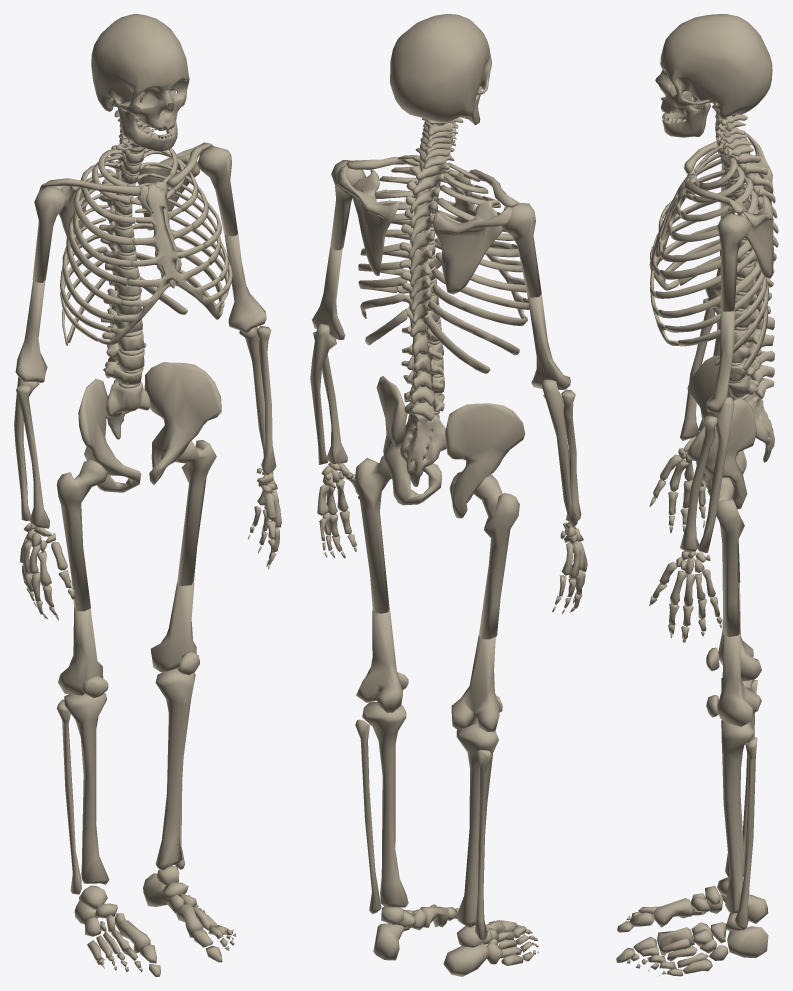
The model's file is pediatric_adolescent_male.skeletal.LOD2.glb.
The picture shows the model from 3 angles, left to right: view 1: azimuth 30°, elevation 25°; view 2: azimuth 150°, elevation 25°; view 3: azimuth 270°, elevation 25°; orthographic projection. The views are drawn at different scales.
Visible parts, largest first — view 1: PEDIATRIC.ADOLESCENT.MALE.SKELETAL.RIBS_CORTICAL, PEDIATRIC.ADOLESCENT.MALE.SKELETAL.CRANIUM_CORTICAL, PEDIATRIC.ADOLESCENT.MALE.SKELETAL.PELVIS_CORTICAL, PEDIATRIC.ADOLESCENT.MALE.SKELETAL.TIBIAE_CORTICAL, PEDIATRIC.ADOLESCENT.MALE.SKELETAL.ANKLES_AND_FOOT_CORTICAL, PEDIATRIC.ADOLESCENT.MALE.SKELETAL.FEMORA_UPPER_CORTICAL, PEDIATRIC.ADOLESCENT.MALE.SKELETAL.CARTILAGE_TRUNK, PEDIATRIC.ADOLESCENT.MALE.SKELETAL.FEMORA_LOWER_CORTICAL, PEDIATRIC.ADOLESCENT.MALE.SKELETAL.WRISTS_AND_HAND_BONES_COR, PEDIATRIC.ADOLESCENT.MALE.SKELETAL.HUMERI_LOWER_CORTICAL, PEDIATRIC.ADOLESCENT.MALE.SKELETAL.HUMERI_UPPER_CORTICAL, PEDIATRIC.ADOLESCENT.MALE.SKELETAL.RADII_CORTICAL (+10 smaller); view 2: PEDIATRIC.ADOLESCENT.MALE.SKELETAL.RIBS_CORTICAL, PEDIATRIC.ADOLESCENT.MALE.SKELETAL.CRANIUM_CORTICAL, PEDIATRIC.ADOLESCENT.MALE.SKELETAL.PELVIS_CORTICAL, PEDIATRIC.ADOLESCENT.MALE.SKELETAL.TIBIAE_CORTICAL, PEDIATRIC.ADOLESCENT.MALE.SKELETAL.FEMORA_UPPER_CORTICAL, PEDIATRIC.ADOLESCENT.MALE.SKELETAL.SCAPULAE_CORTICAL, PEDIATRIC.ADOLESCENT.MALE.SKELETAL.FEMORA_LOWER_CORTICAL, PEDIATRIC.ADOLESCENT.MALE.SKELETAL.ANKLES_AND_FOOT_CORTICAL, PEDIATRIC.ADOLESCENT.MALE.SKELETAL.THORACIC_SPINE_CORTICAL, PEDIATRIC.ADOLESCENT.MALE.SKELETAL.WRISTS_AND_HAND_BONES_COR, PEDIATRIC.ADOLESCENT.MALE.SKELETAL.ULNAE_CORTICAL, PEDIATRIC.ADOLESCENT.MALE.SKELETAL.HUMERI_UPPER_CORTICAL (+8 smaller); view 3: PEDIATRIC.ADOLESCENT.MALE.SKELETAL.CRANIUM_CORTICAL, PEDIATRIC.ADOLESCENT.MALE.SKELETAL.RIBS_CORTICAL, PEDIATRIC.ADOLESCENT.MALE.SKELETAL.ANKLES_AND_FOOT_CORTICAL, PEDIATRIC.ADOLESCENT.MALE.SKELETAL.WRISTS_AND_HAND_BONES_COR, PEDIATRIC.ADOLESCENT.MALE.SKELETAL.PELVIS_CORTICAL, PEDIATRIC.ADOLESCENT.MALE.SKELETAL.TIBIAE_CORTICAL, PEDIATRIC.ADOLESCENT.MALE.SKELETAL.FEMORA_LOWER_CORTICAL, PEDIATRIC.ADOLESCENT.MALE.SKELETAL.FEMORA_UPPER_CORTICAL, PEDIATRIC.ADOLESCENT.MALE.SKELETAL.RADII_CORTICAL, PEDIATRIC.ADOLESCENT.MALE.SKELETAL.LUMBAR_SPINE_CORTICAL, PEDIATRIC.ADOLESCENT.MALE.SKELETAL.THORACIC_SPINE_CORTICAL, PEDIATRIC.ADOLESCENT.MALE.SKELETAL.CARTILAGE_TRUNK (+10 smaller).
Part boxes in pixels (<box>): PEDIATRIC.ADOLESCENT.MALE.SKELETAL.RIBS_CORTICAL: <box>60,148,232,345</box>; PEDIATRIC.ADOLESCENT.MALE.SKELETAL.CRANIUM_CORTICAL: <box>91,14,189,130</box>; PEDIATRIC.ADOLESCENT.MALE.SKELETAL.PELVIS_CORTICAL: <box>78,362,221,492</box>; PEDIATRIC.ADOLESCENT.MALE.SKELETAL.TIBIAE_CORTICAL: <box>64,668,195,884</box>; PEDIATRIC.ADOLESCENT.MALE.SKELETAL.ANKLES_AND_FOOT_CORTICAL: <box>74,865,236,976</box>; PEDIATRIC.ADOLESCENT.MALE.SKELETAL.FEMORA_UPPER_CORTICAL: <box>56,440,216,611</box>; PEDIATRIC.ADOLESCENT.MALE.SKELETAL.CARTILAGE_TRUNK: <box>96,119,224,388</box>; PEDIATRIC.ADOLESCENT.MALE.SKELETAL.FEMORA_LOWER_CORTICAL: <box>58,582,196,695</box>; PEDIATRIC.ADOLESCENT.MALE.SKELETAL.WRISTS_AND_HAND_BONES_COR: <box>20,467,281,620</box>; PEDIATRIC.ADOLESCENT.MALE.SKELETAL.HUMERI_LOWER_CORTICAL: <box>15,233,266,382</box>; PEDIATRIC.ADOLESCENT.MALE.SKELETAL.HUMERI_UPPER_CORTICAL: <box>32,146,237,282</box>; PEDIATRIC.ADOLESCENT.MALE.SKELETAL.RADII_CORTICAL: <box>16,325,276,528</box>; PEDIATRIC.ADOLESCENT.MALE.SKELETAL.RIBS_CORTICAL: <box>358,155,529,373</box>; PEDIATRIC.ADOLESCENT.MALE.SKELETAL.CRANIUM_CORTICAL: <box>390,14,491,122</box>; PEDIATRIC.ADOLESCENT.MALE.SKELETAL.PELVIS_CORTICAL: <box>376,376,525,518</box>; PEDIATRIC.ADOLESCENT.MALE.SKELETAL.TIBIAE_CORTICAL: <box>362,702,498,927</box>; PEDIATRIC.ADOLESCENT.MALE.SKELETAL.FEMORA_UPPER_CORTICAL: <box>355,455,519,639</box>; PEDIATRIC.ADOLESCENT.MALE.SKELETAL.SCAPULAE_CORTICAL: <box>336,165,512,294</box>; PEDIATRIC.ADOLESCENT.MALE.SKELETAL.FEMORA_LOWER_CORTICAL: <box>356,610,499,731</box>; PEDIATRIC.ADOLESCENT.MALE.SKELETAL.ANKLES_AND_FOOT_CORTICAL: <box>373,904,538,976</box>; PEDIATRIC.ADOLESCENT.MALE.SKELETAL.THORACIC_SPINE_CORTICAL: <box>399,156,449,337</box>; PEDIATRIC.ADOLESCENT.MALE.SKELETAL.WRISTS_AND_HAND_BONES_COR: <box>317,462,587,614</box>; PEDIATRIC.ADOLESCENT.MALE.SKELETAL.ULNAE_CORTICAL: <box>310,324,577,526</box>; PEDIATRIC.ADOLESCENT.MALE.SKELETAL.HUMERI_UPPER_CORTICAL: <box>330,160,541,297</box>; PEDIATRIC.ADOLESCENT.MALE.SKELETAL.CRANIUM_CORTICAL: <box>655,14,772,119</box>; PEDIATRIC.ADOLESCENT.MALE.SKELETAL.RIBS_CORTICAL: <box>654,146,768,370</box>; PEDIATRIC.ADOLESCENT.MALE.SKELETAL.ANKLES_AND_FOOT_CORTICAL: <box>616,877,768,976</box>; PEDIATRIC.ADOLESCENT.MALE.SKELETAL.WRISTS_AND_HAND_BONES_COR: <box>649,436,721,642</box>; PEDIATRIC.ADOLESCENT.MALE.SKELETAL.PELVIS_CORTICAL: <box>687,355,756,509</box>; PEDIATRIC.ADOLESCENT.MALE.SKELETAL.TIBIAE_CORTICAL: <box>721,677,754,913</box>; PEDIATRIC.ADOLESCENT.MALE.SKELETAL.FEMORA_LOWER_CORTICAL: <box>717,582,761,726</box>; PEDIATRIC.ADOLESCENT.MALE.SKELETAL.FEMORA_UPPER_CORTICAL: <box>707,477,744,636</box>; PEDIATRIC.ADOLESCENT.MALE.SKELETAL.RADII_CORTICAL: <box>680,298,717,551</box>; PEDIATRIC.ADOLESCENT.MALE.SKELETAL.LUMBAR_SPINE_CORTICAL: <box>728,305,774,399</box>; PEDIATRIC.ADOLESCENT.MALE.SKELETAL.THORACIC_SPINE_CORTICAL: <box>721,153,778,314</box>; PEDIATRIC.ADOLESCENT.MALE.SKELETAL.CARTILAGE_TRUNK: <box>650,118,751,399</box>.
Size of the model in its own units: 0.479 by 1.66 by 0.2624.
